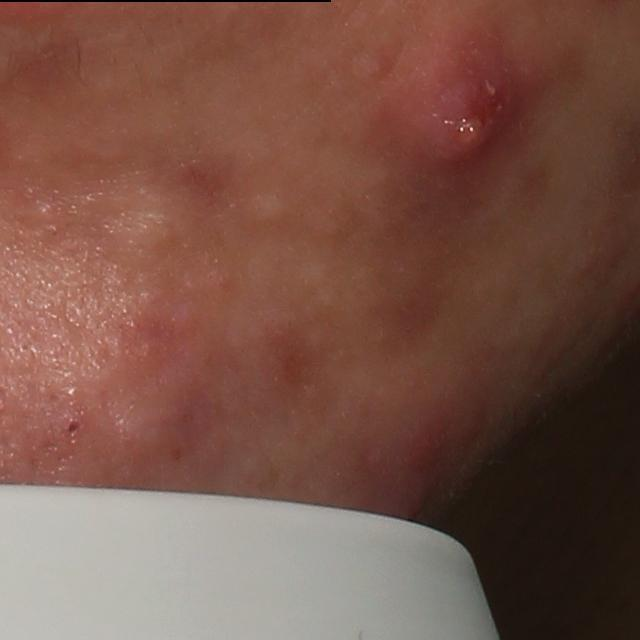hypertrophic_scar: (103, 173, 182, 261), (246, 192, 288, 229)
nodule: (366, 25, 537, 214)
